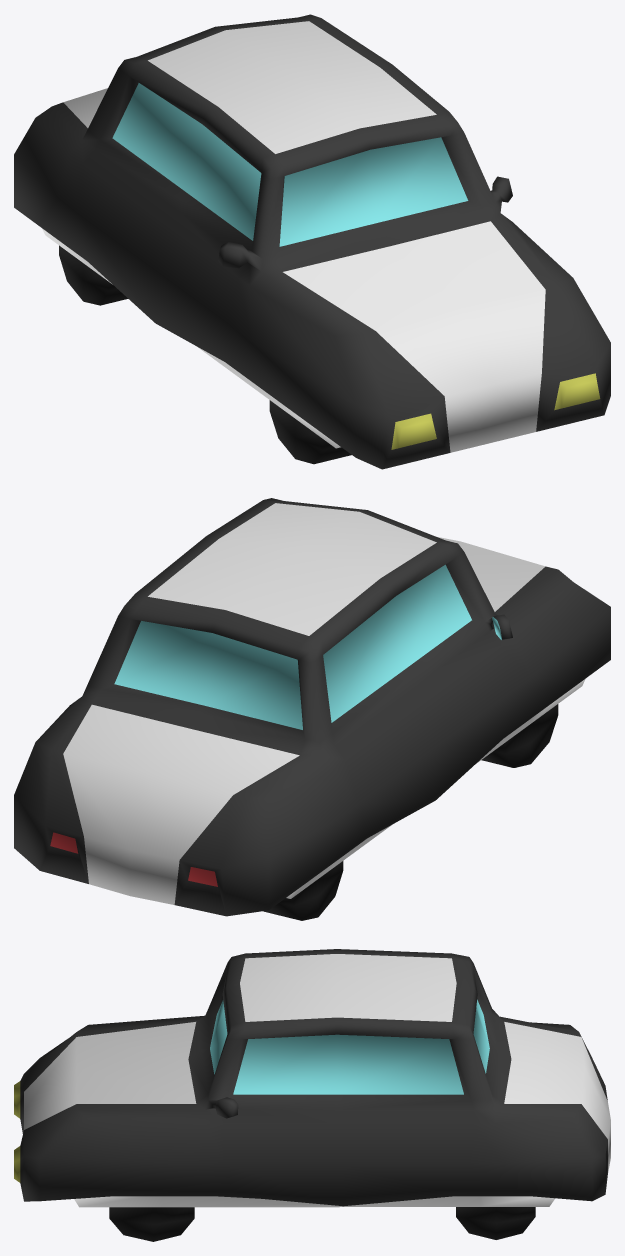
The model's file is Car.fbx.
The picture shows the model from 3 angles, top to bottom: view 1: azimuth 30°, elevation 25°; view 2: azimuth 150°, elevation 25°; view 3: azimuth 270°, elevation 25°; orthographic projection. The views are drawn at different scales.
Visible parts, largest first — view 1: Cube; view 2: Cube; view 3: Cube.
Boxes of the visible parts, left/top/right/bottom form: Cube: left=14, top=14, right=610, bottom=469; Cube: left=14, top=498, right=610, bottom=920; Cube: left=14, top=949, right=610, bottom=1241.
Bounding box in the file's own units: 188 × 165 × 411.
